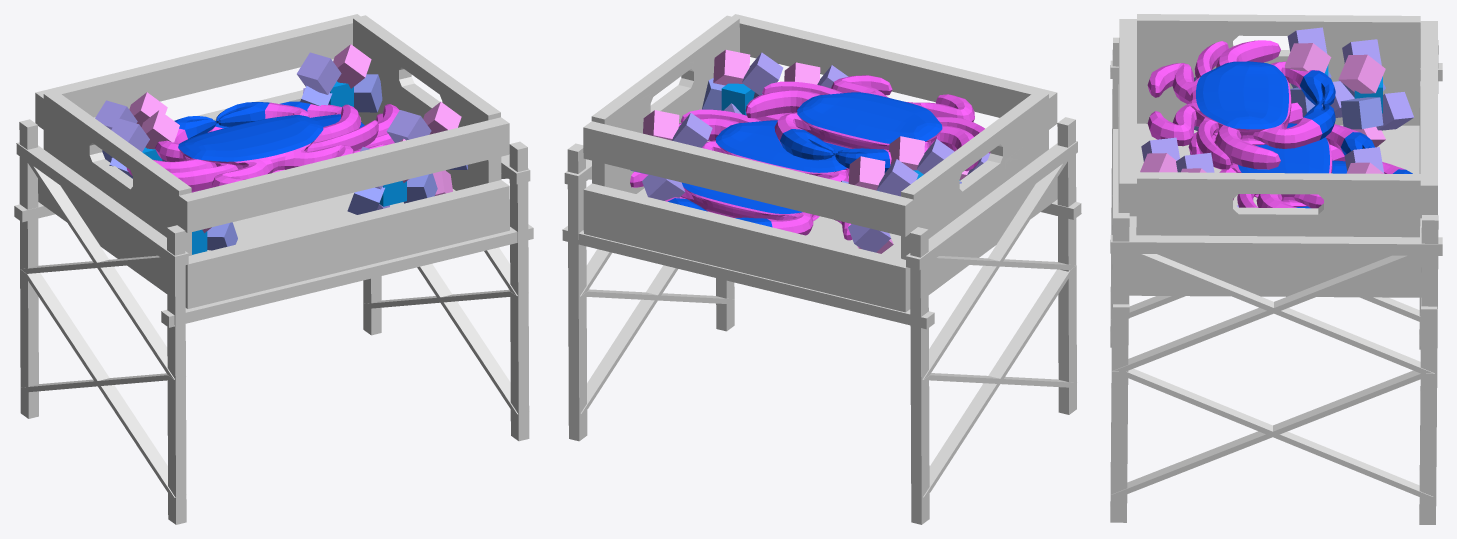
The model's file is crab_provider.fbx.
The picture shows the model from 3 angles, left to right: view 1: azimuth 30°, elevation 25°; view 2: azimuth 150°, elevation 25°; view 3: azimuth 270°, elevation 25°; orthographic projection. The views are drawn at different scales.
Parts seen in each view (by area): view 1: Cube, Cube.001, Crab - Raw.003, Cube.005, Cube.003, Cube.002, Cube.007, Crab - Raw.001, Cube.006, Cube.004; view 2: Cube, Cube.001, Crab - Raw.003, Crab - Raw.001, Crab - Raw.002, Cube.003, Cube.006, Cube.005, Cube.007, Cube.002; view 3: Cube, Cube.001, Crab - Raw.003, Cube.006, Crab - Raw.001, Cube.007, Cube.002, Cube.005, Cube.003, Crab - Raw.002.
Part boxes in pixels (x1,y1,x2,y2): Cube: [35, 14, 509, 308]; Cube.001: [14, 119, 533, 524]; Crab - Raw.003: [127, 102, 378, 191]; Cube.005: [297, 44, 382, 121]; Cube.003: [386, 101, 467, 195]; Cube.002: [347, 138, 437, 214]; Cube.007: [109, 110, 179, 178]; Crab - Raw.001: [208, 101, 399, 187]; Cube.006: [95, 92, 167, 162]; Cube.004: [192, 222, 237, 254]; Cube: [583, 14, 1057, 312]; Cube.001: [562, 117, 1081, 524]; Crab - Raw.003: [745, 75, 990, 172]; Crab - Raw.001: [678, 109, 849, 181]; Crab - Raw.002: [630, 171, 852, 240]; Cube.003: [702, 49, 783, 115]; Cube.006: [841, 156, 918, 253]; Cube.005: [630, 110, 712, 200]; Cube.007: [889, 136, 961, 183]; Cube.002: [784, 62, 848, 88]; Cube: [1118, 14, 1437, 297]; Cube.001: [1110, 37, 1442, 524]; Crab - Raw.003: [1147, 40, 1335, 170]; Cube.006: [1338, 39, 1413, 147]; Crab - Raw.001: [1188, 102, 1374, 208]; Cube.007: [1285, 27, 1354, 117]; Cube.002: [1140, 137, 1179, 172]; Cube.005: [1344, 147, 1384, 173]; Cube.003: [1176, 152, 1238, 207]; Crab - Raw.002: [1296, 144, 1412, 208].
Size of what is drawn, in the model's own units: 92.54 by 79.26 by 69.73.
